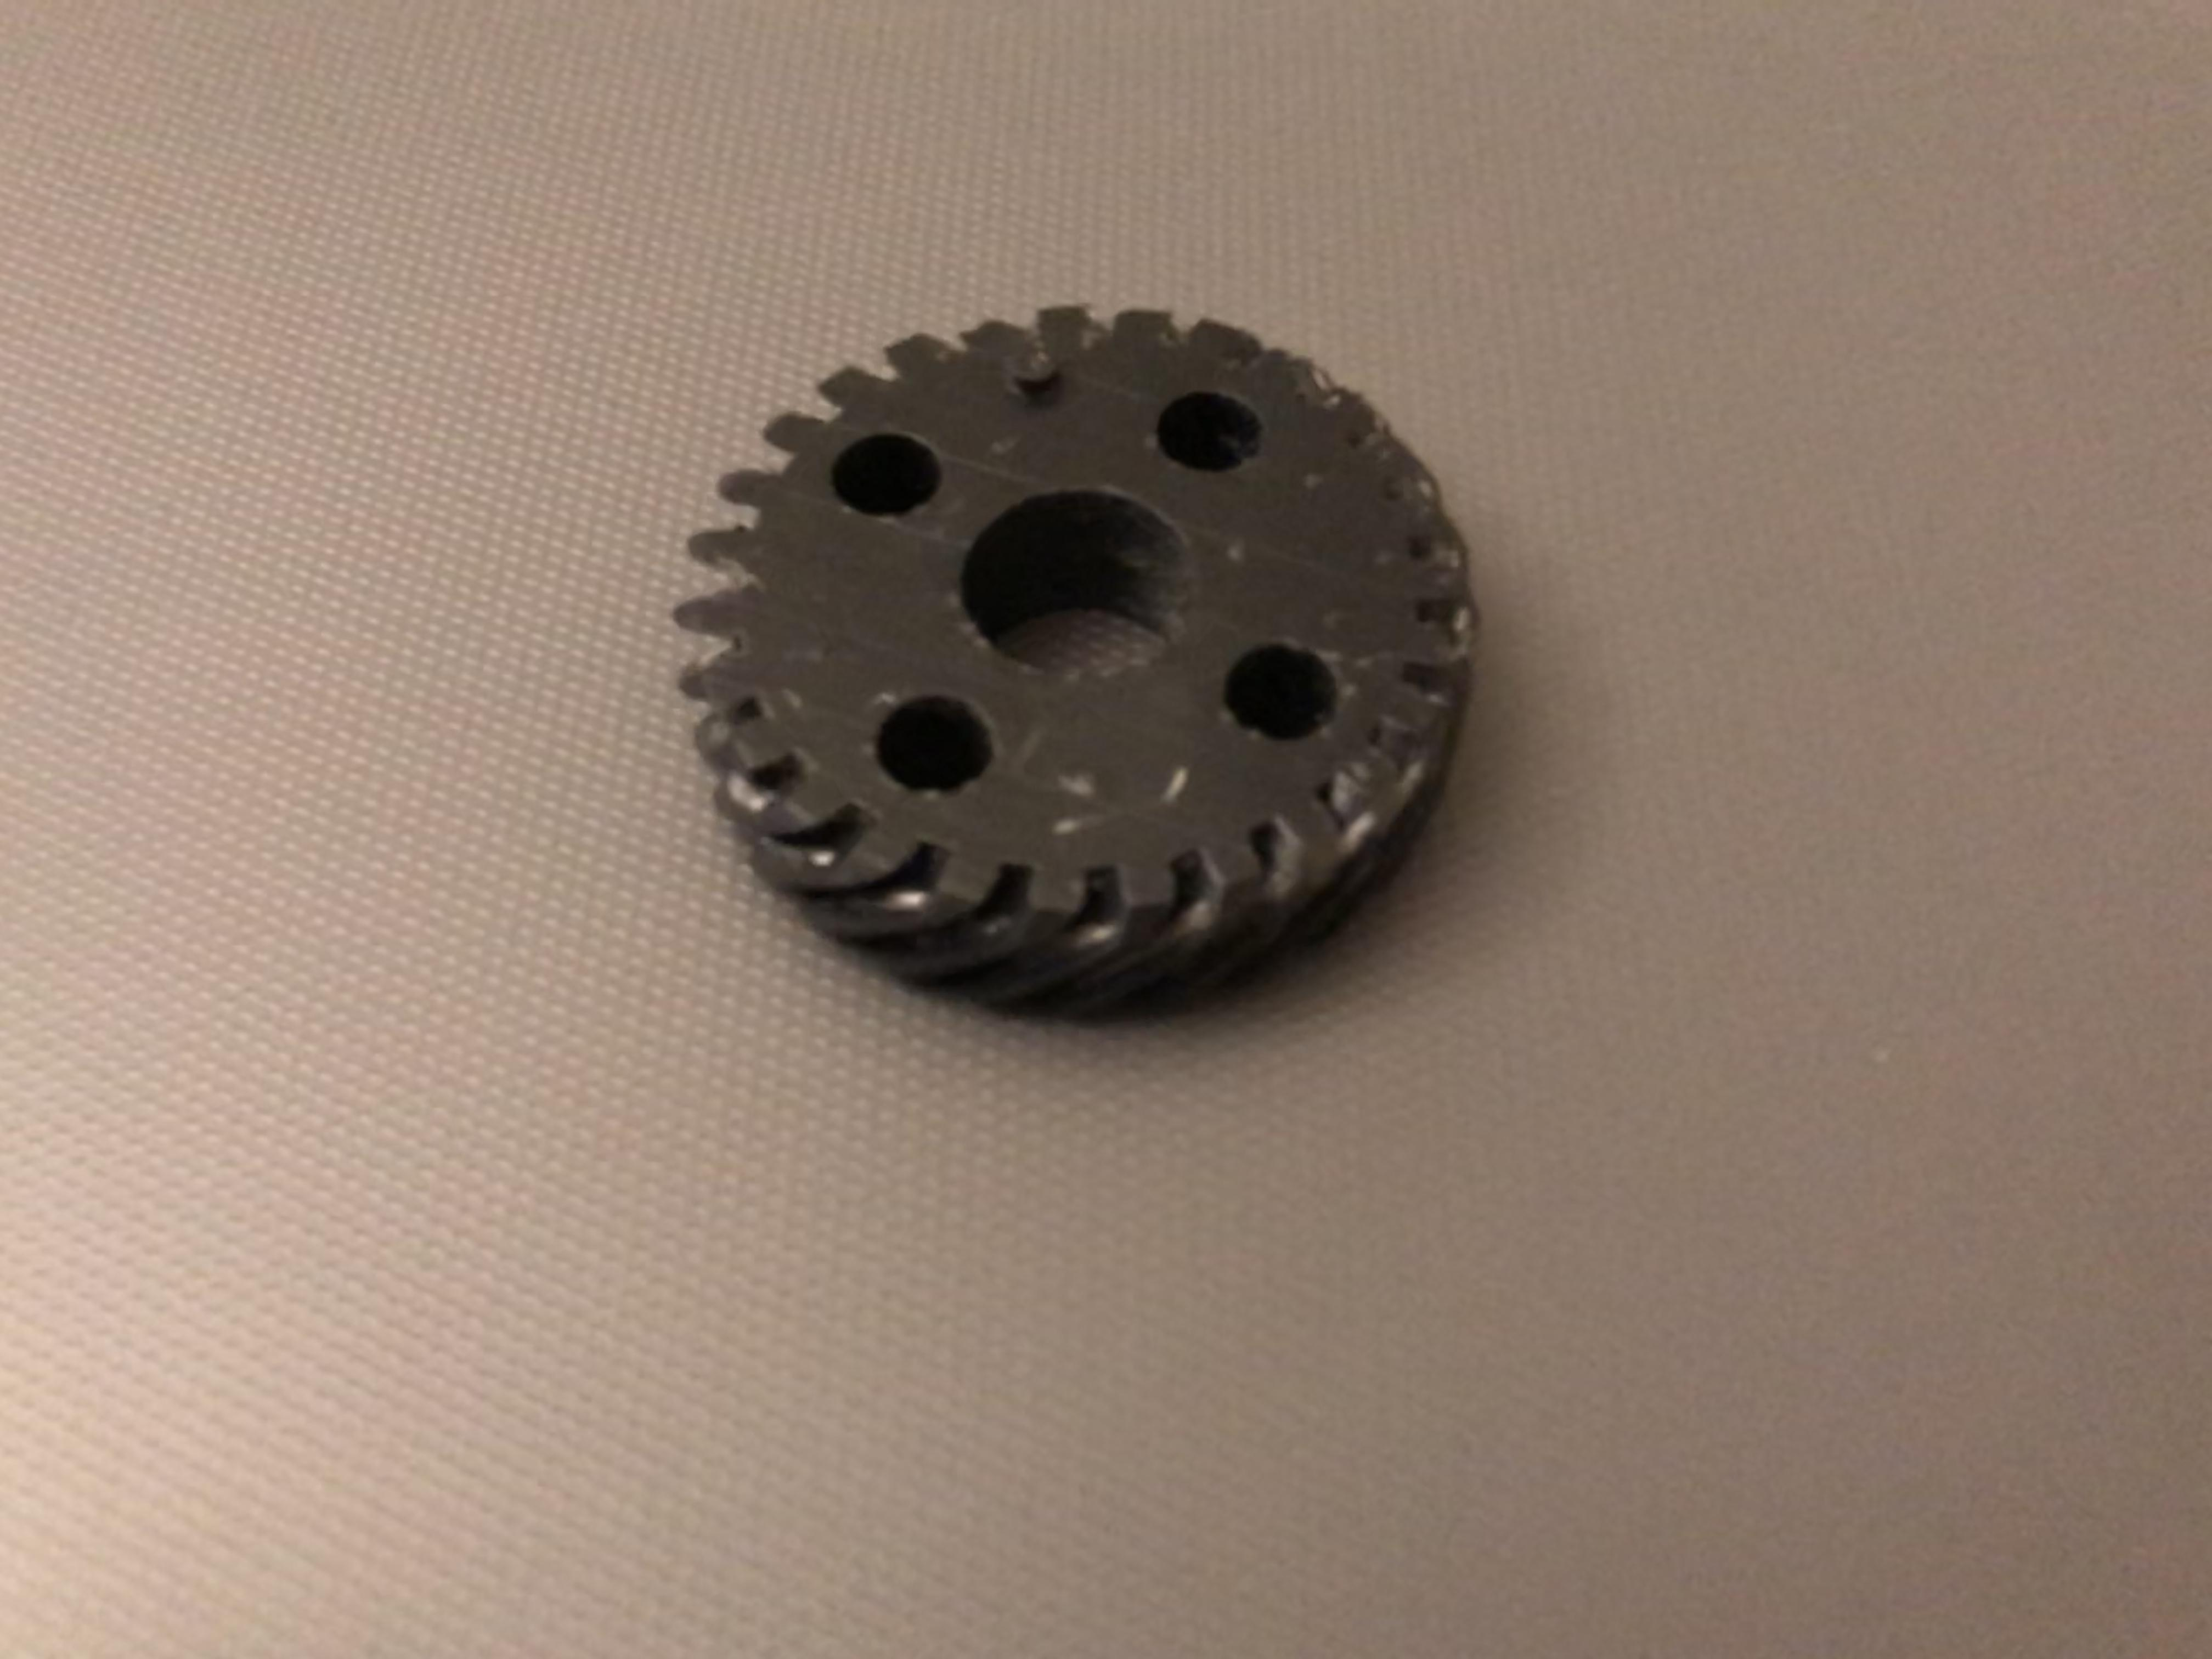Wheel: (672, 291, 1500, 1047)
